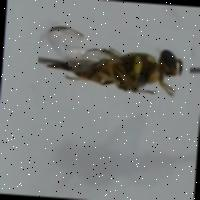Oriental-fruit-fly: (35, 20, 193, 116)
